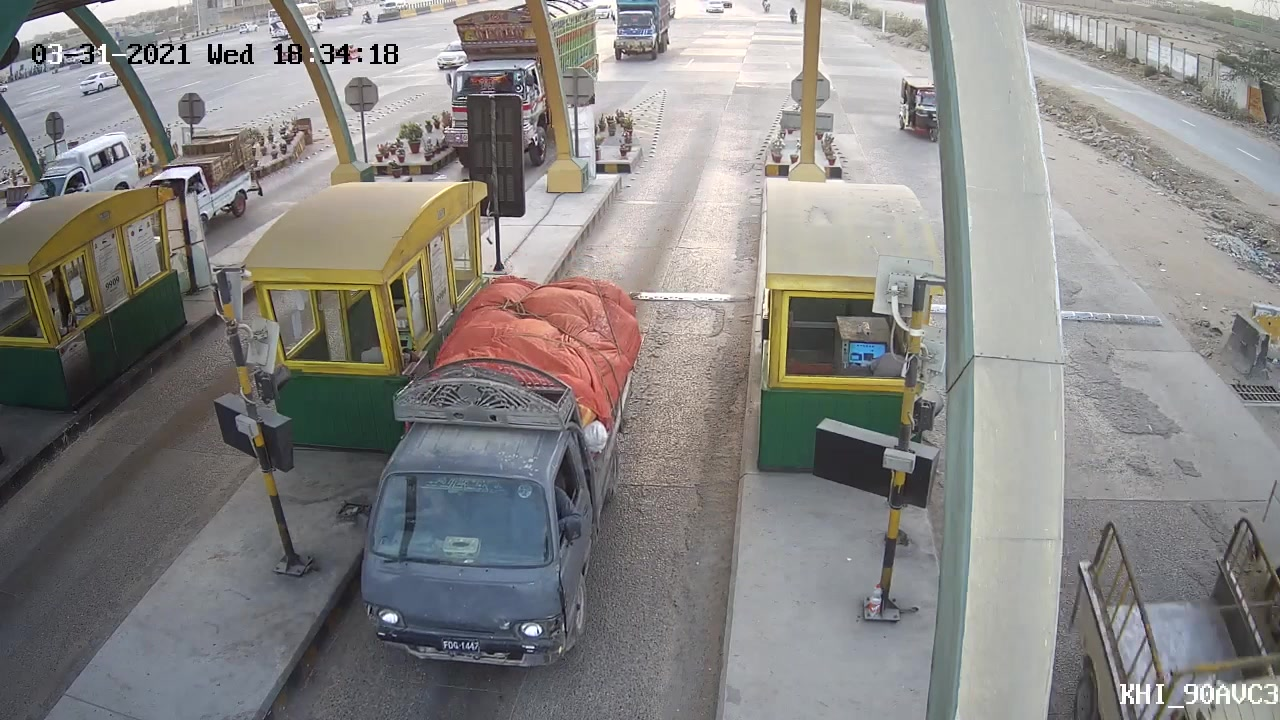F2: (346, 298, 625, 671)
